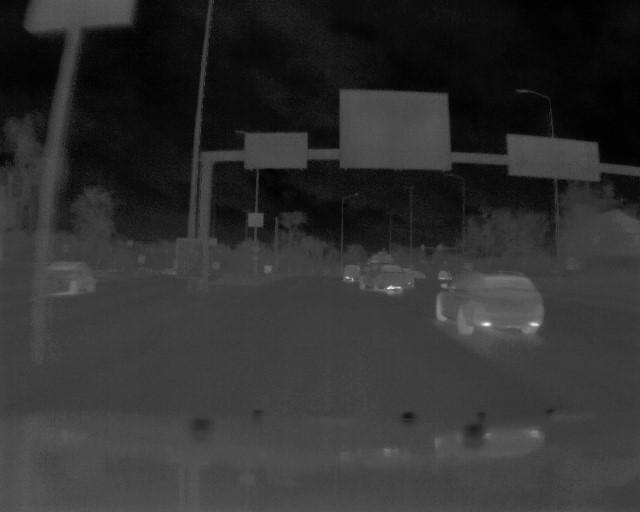car: (431, 274, 543, 337), (50, 258, 97, 296), (356, 263, 412, 293)
